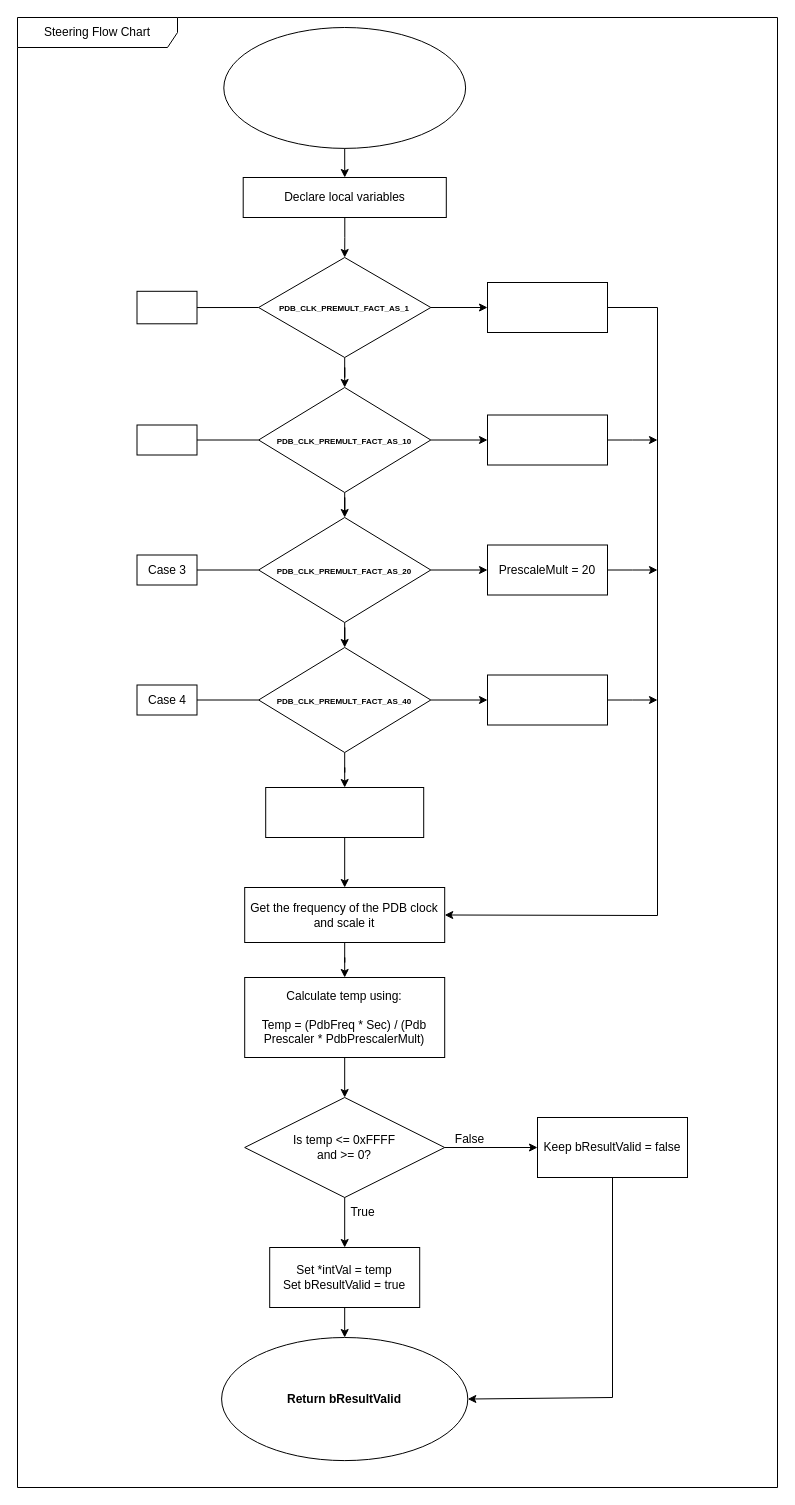
This 795x1505 diagram has some shape labels left out. The centre of each missing label's shape, as x and y in pixels:
Case 1: point 166,307
Case 2: point 166,439
Default: PrescalerMult =1: point 344,812
PrescaleMult = 1: point 547,307
PrescaleMult = 10: point 547,439
PrescaleMult = 40: point 547,699
Start calculateIntValue: point 344,87
